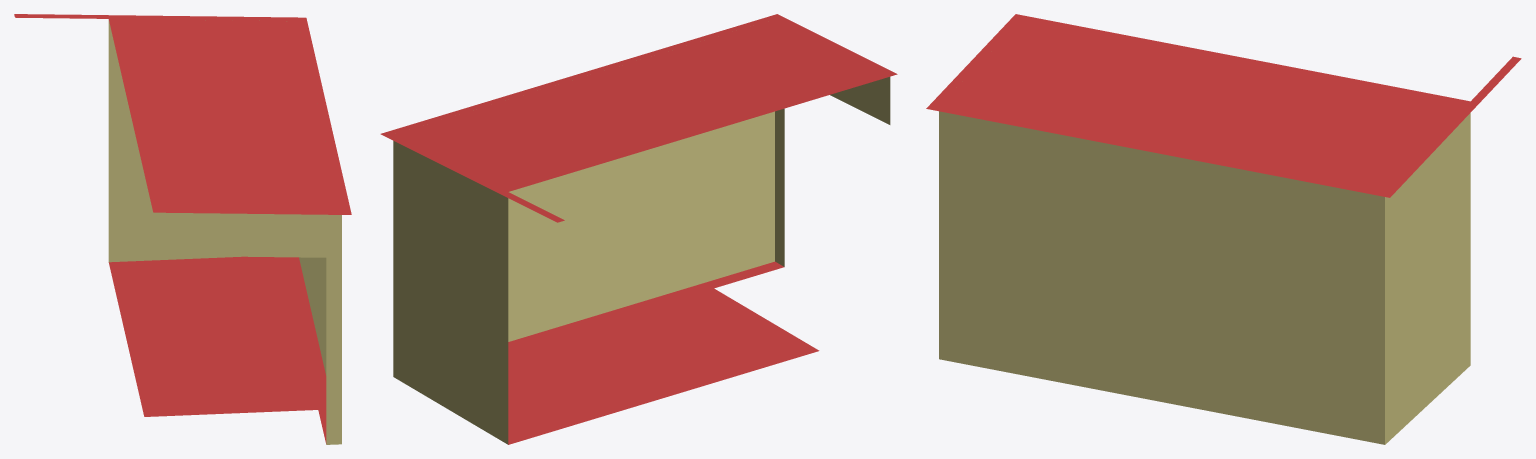
The picture shows the model from 3 angles, left to right: view 1: azimuth 30°, elevation 25°; view 2: azimuth 150°, elevation 25°; view 3: azimuth 270°, elevation 25°; orthographic projection. The views are drawn at different scales.
Size of the model in its own units: 10.34 by 15.1 by 7.53.
